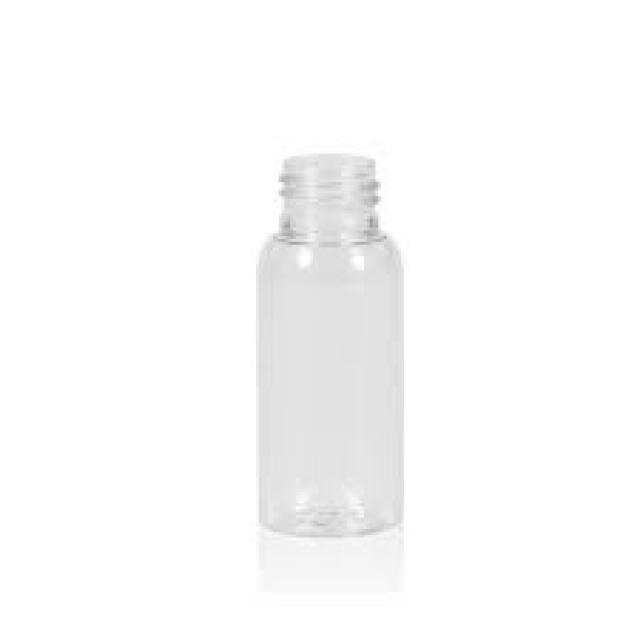glass: (256, 151, 398, 535)
